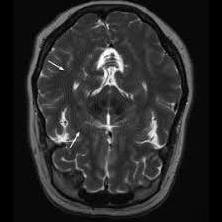Normal_Brain: (1, 1, 222, 221)
